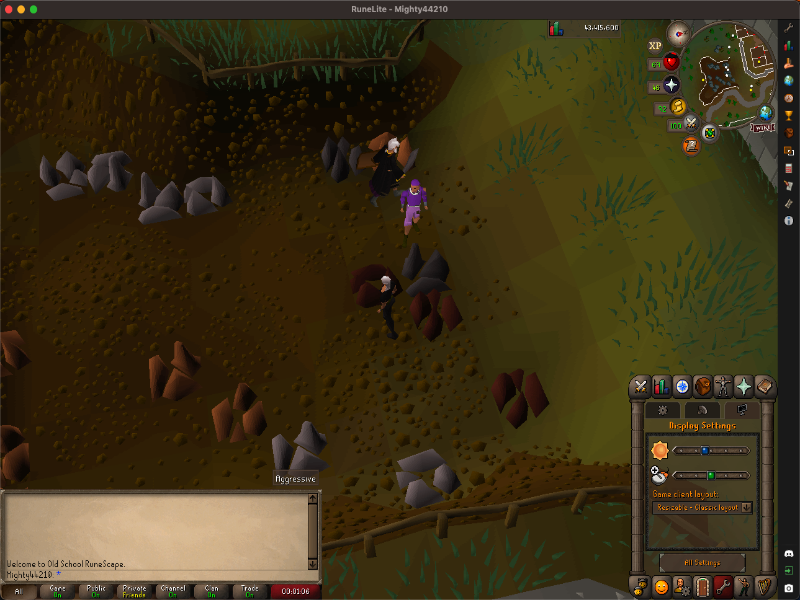iron: (493, 375, 544, 417), (411, 299, 457, 331), (354, 268, 393, 303)
